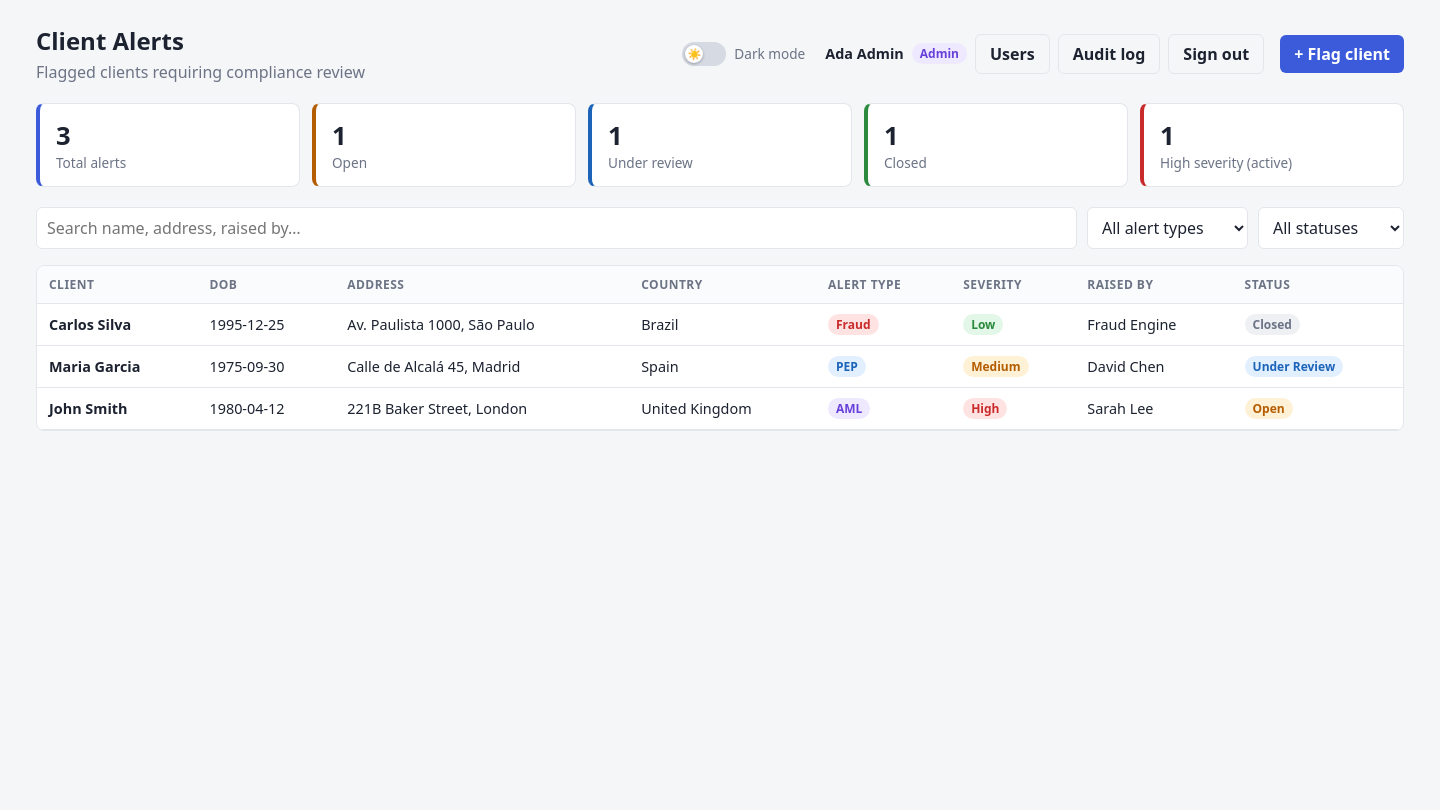
it: audit log screen › filters by action and user
Check: the text "John Smith" is shown, box x1=37 y1=388 x2=197 y2=430
Click the button "Audit log": point(1109, 54) x1=1058 y1=34 x2=1160 y2=74
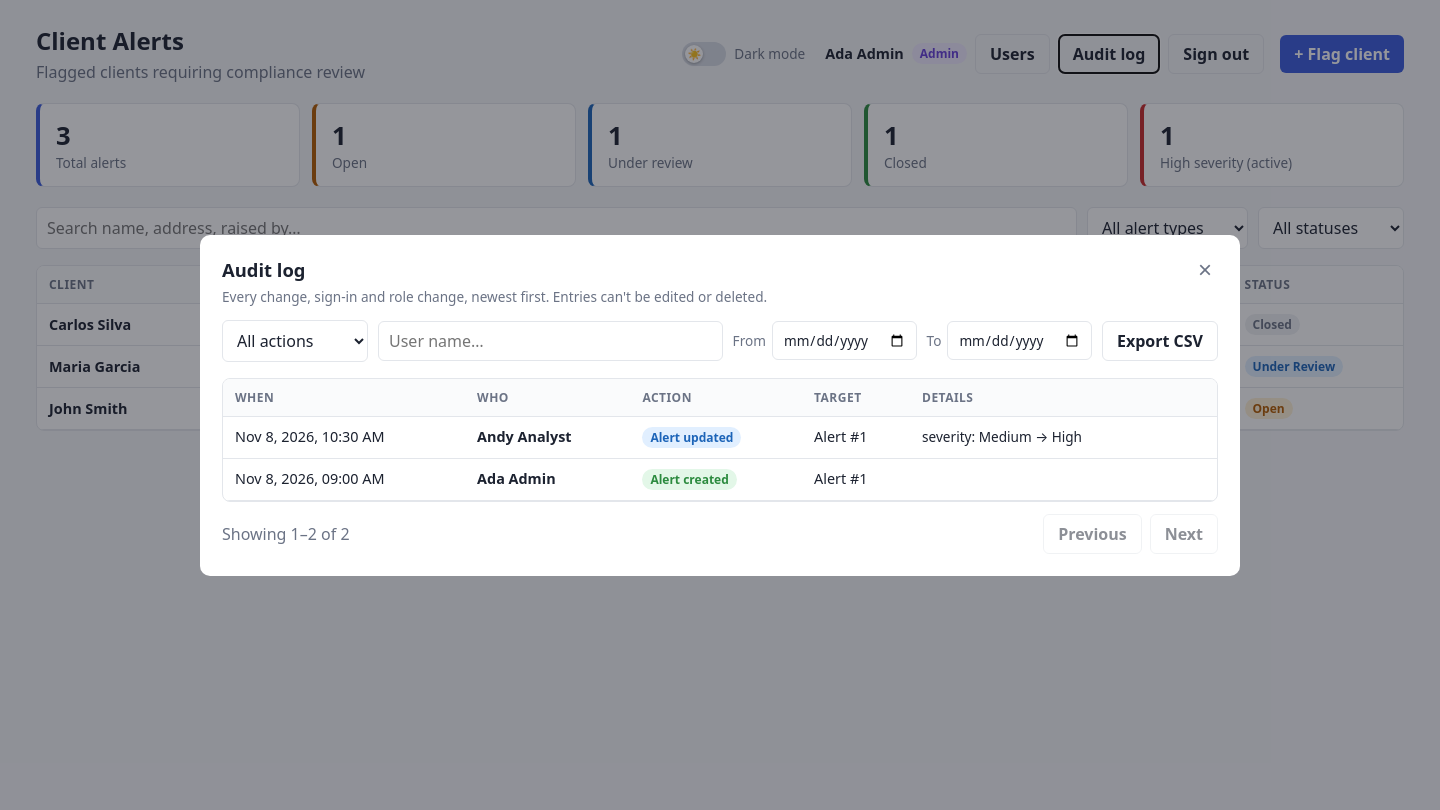
Check: the text "Andy Analyst" is shown, box x1=465 y1=416 x2=630 y2=458
Select "Alert created" in the dropdown named "Filter by action": point(295, 340) x1=222 y1=320 x2=368 y2=362
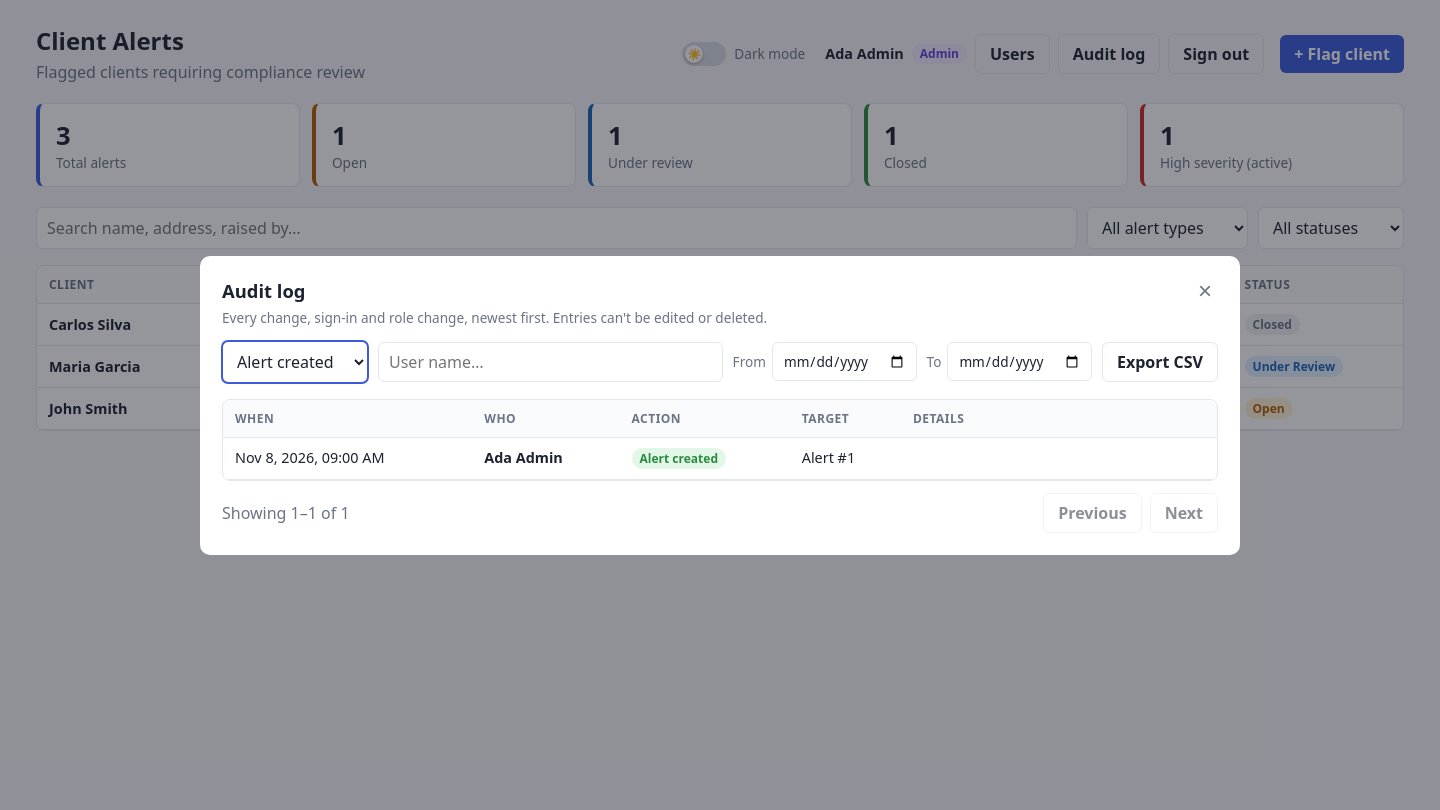
Check: the text "Ada Admin" is shown, box x1=472 y1=437 x2=620 y2=479
Check: the text "Andy Analyst" is gone
In the field named "Filter by user": point(550, 362) x1=378 y1=342 x2=723 y2=382, type "nobody"
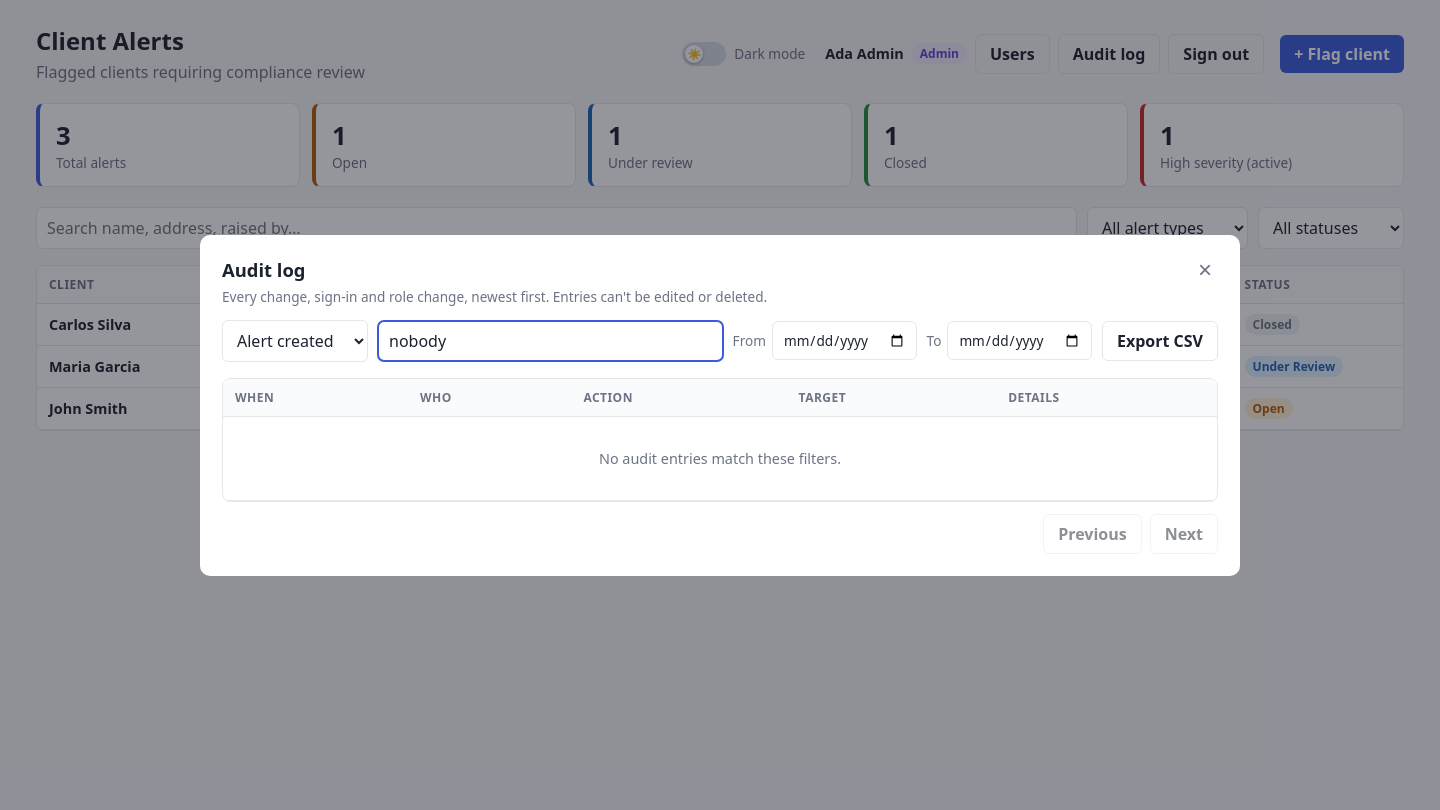
Check: the text "No audit entries match these filters." is shown, box x1=223 y1=416 x2=1217 y2=500
